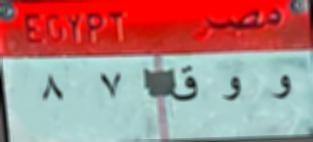7: (93, 69, 129, 101)
8: (35, 70, 67, 104)
qaaf: (170, 62, 201, 106)
waw: (218, 72, 245, 107), (269, 71, 295, 106)
